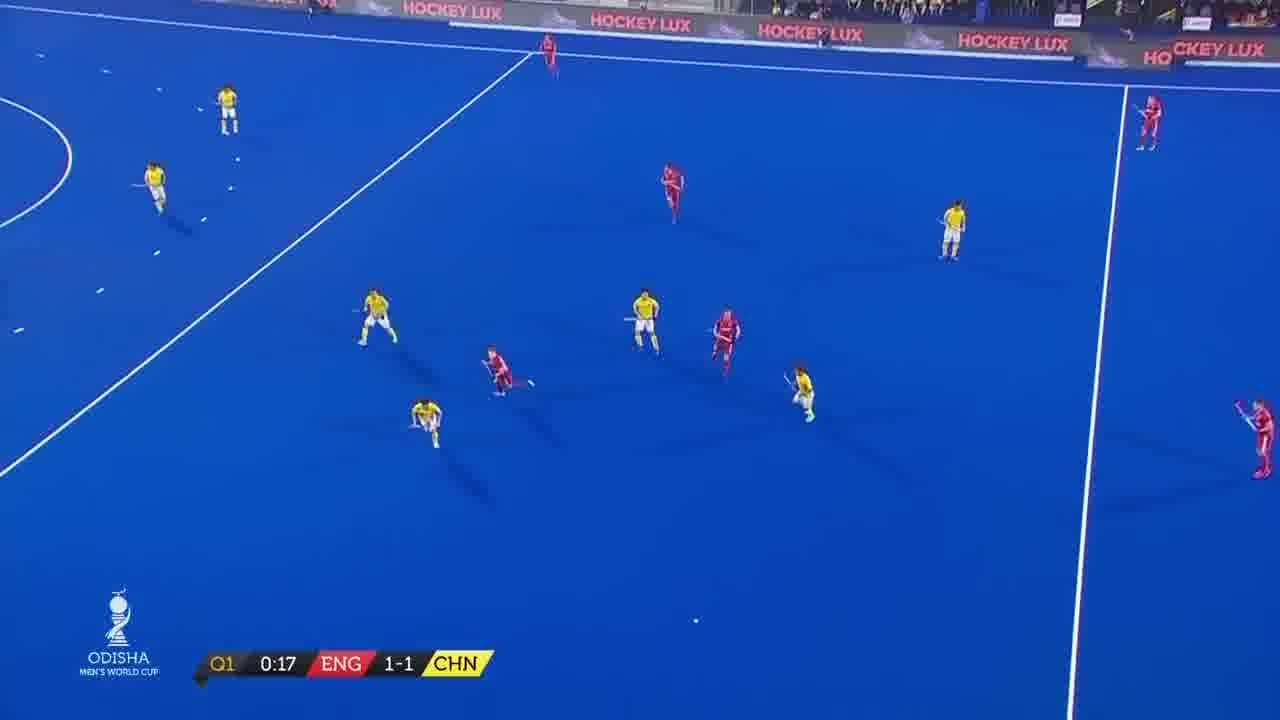ball: (684, 608, 704, 633)
